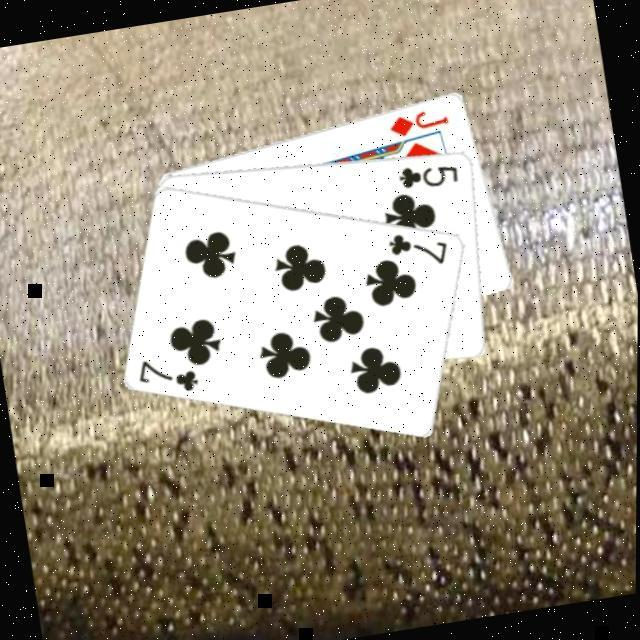5C: (396, 157, 464, 196)
7C: (135, 349, 205, 402), (384, 224, 454, 275)
JD: (386, 105, 454, 142)
